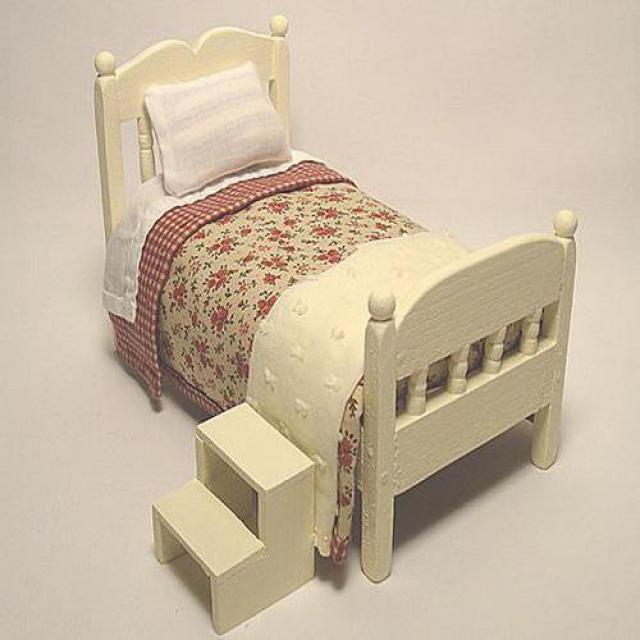bed: (93, 15, 580, 631)
